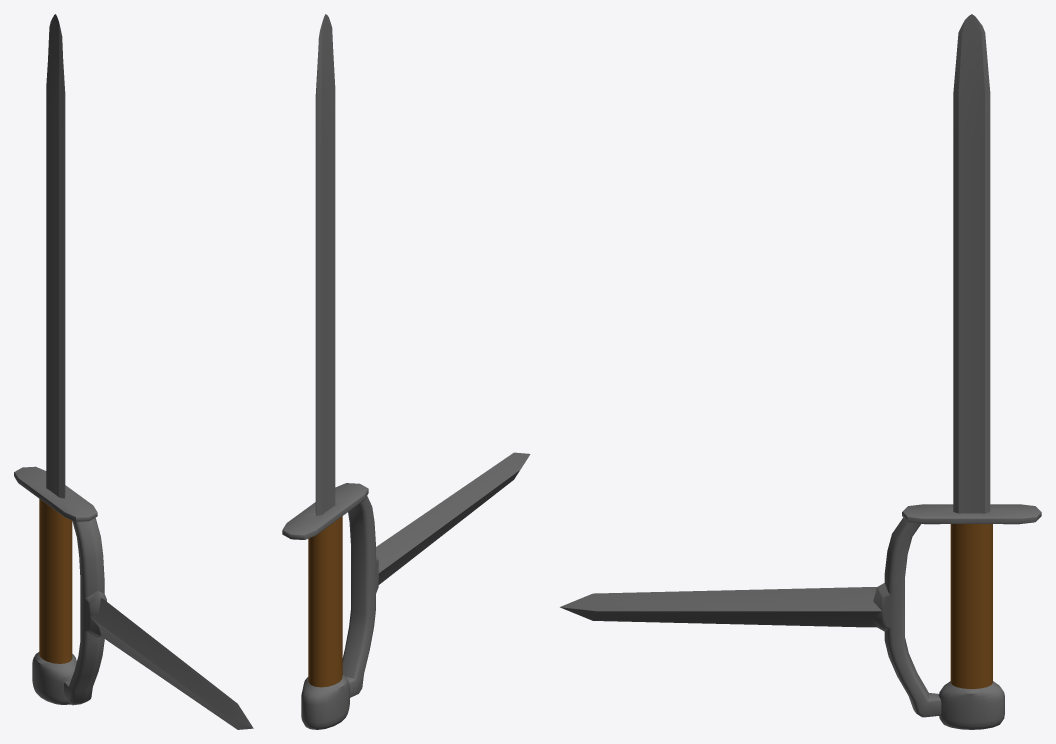
File: DualStabLineDagger.fbx
The picture shows the model from 3 angles, left to right: view 1: azimuth 30°, elevation 25°; view 2: azimuth 150°, elevation 25°; view 3: azimuth 270°, elevation 25°; orthographic projection. The views are drawn at different scales.
Visible parts, largest first — view 1: DualStabLineDagger; view 2: DualStabLineDagger; view 3: DualStabLineDagger.
Part boxes in pixels (left/top/right/bottom): DualStabLineDagger: left=14, top=14, right=253, bottom=729; DualStabLineDagger: left=282, top=14, right=530, bottom=729; DualStabLineDagger: left=560, top=14, right=1041, bottom=729.
Bounding box in the file's own units: 3.43 × 64.69 × 39.85.
